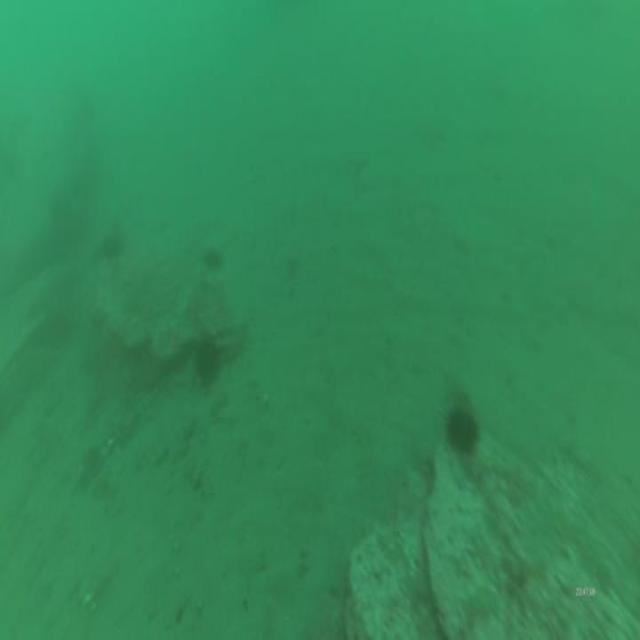echinus: (444, 398, 481, 463), (192, 336, 221, 394), (199, 242, 229, 278), (98, 230, 127, 260)
